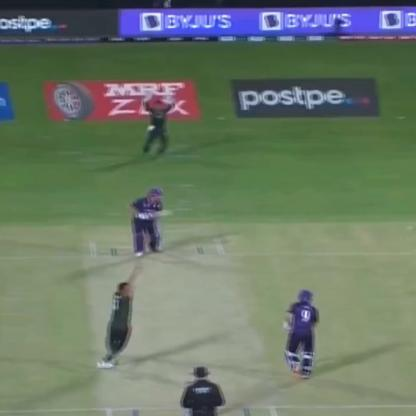pitch: (76, 240, 273, 416)
